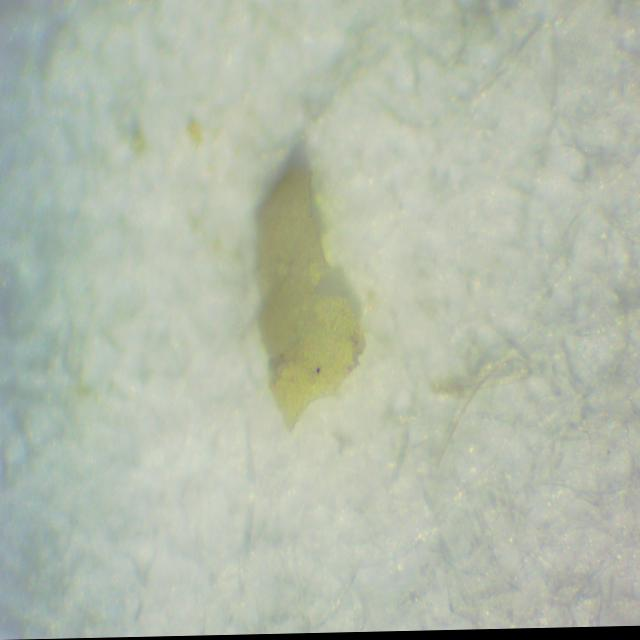microplastic: (257, 165, 369, 437)
